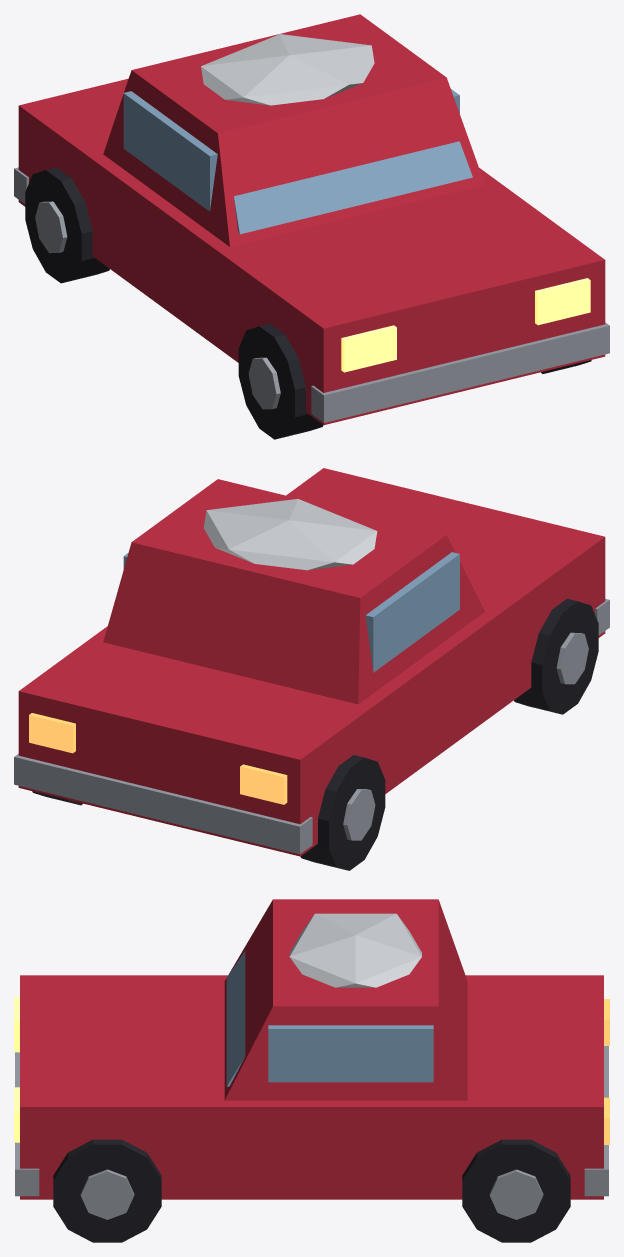
The model's file is Car_Red.glb.
3 views of the same model, one above another, from view 1: azimuth 30°, elevation 25°; view 2: azimuth 150°, elevation 25°; view 3: azimuth 270°, elevation 25° (orthographic). The views are drawn at different scales.
Visible parts, largest first — view 1: Car_Red_Body, Car_Red_Glow; view 2: Car_Red_Body, Car_Red_Glow; view 3: Car_Red_Body, Car_Red_Glow.
Boxes of the visible parts, box(x1,y1,x2,y2) form: Car_Red_Body: box(14, 14, 609, 439); Car_Red_Glow: box(341, 278, 590, 372); Car_Red_Body: box(14, 468, 609, 870); Car_Red_Glow: box(29, 713, 287, 804); Car_Red_Body: box(15, 899, 608, 1242); Car_Red_Glow: box(14, 996, 609, 1144).
Size of the model in its own units: 7.1 by 5.36 by 12.24.
